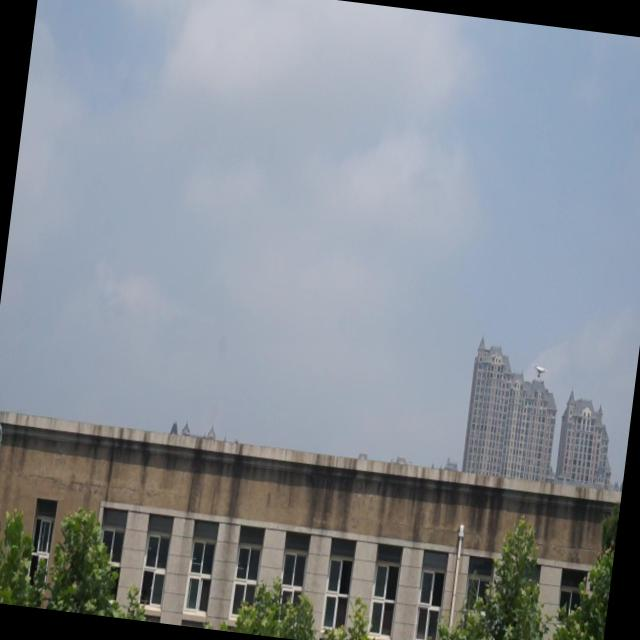drone: (530, 359, 548, 382)
